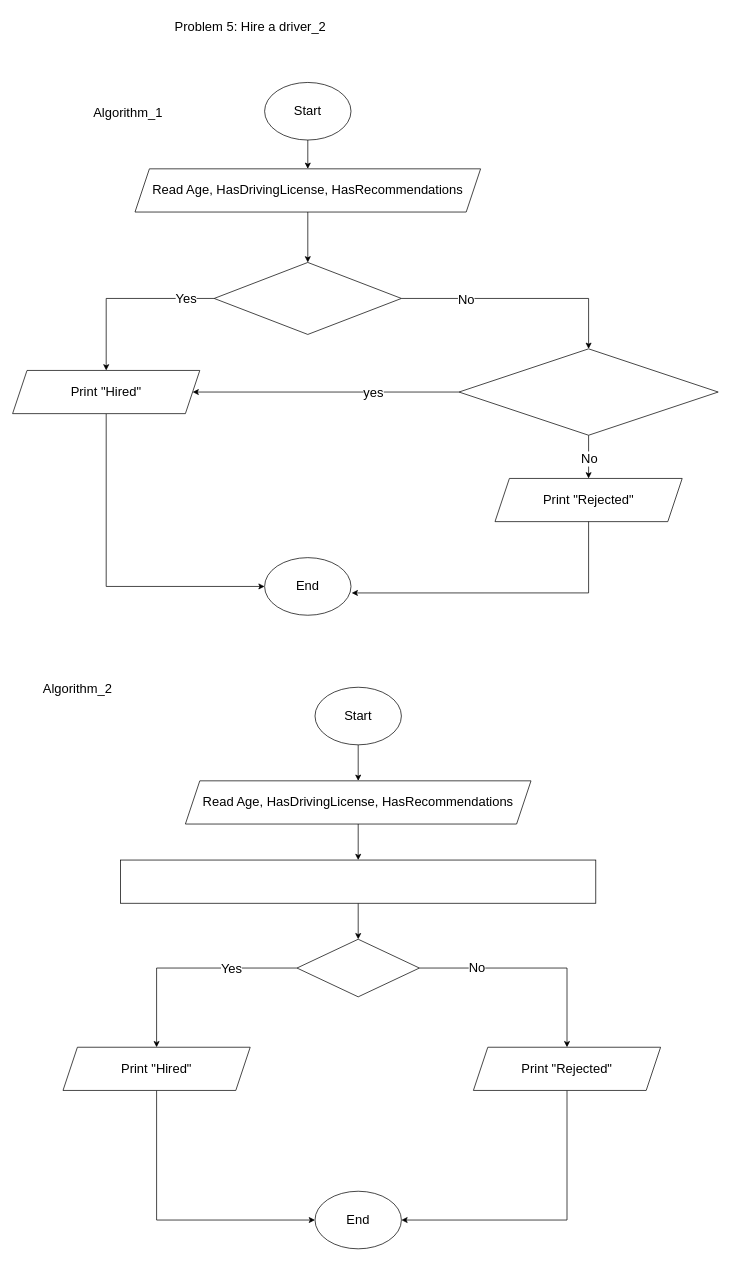
Some shapes in this 731 by 1261 pixel diagram are drawn without their labels. The shapes that lost their labels are listed below. From the top down, each one's box as (x1, y1, x2, y2) in pixels, then its label:
(213, 262, 401, 334): HasRecommendation = 1
(458, 348, 718, 435): Age > 21 and HasDrivingLicense = true
(120, 859, 596, 903): Result = (Age > 21 and HasDrivingLicense) or HasRecommendation
(296, 939, 419, 997): Result = true
